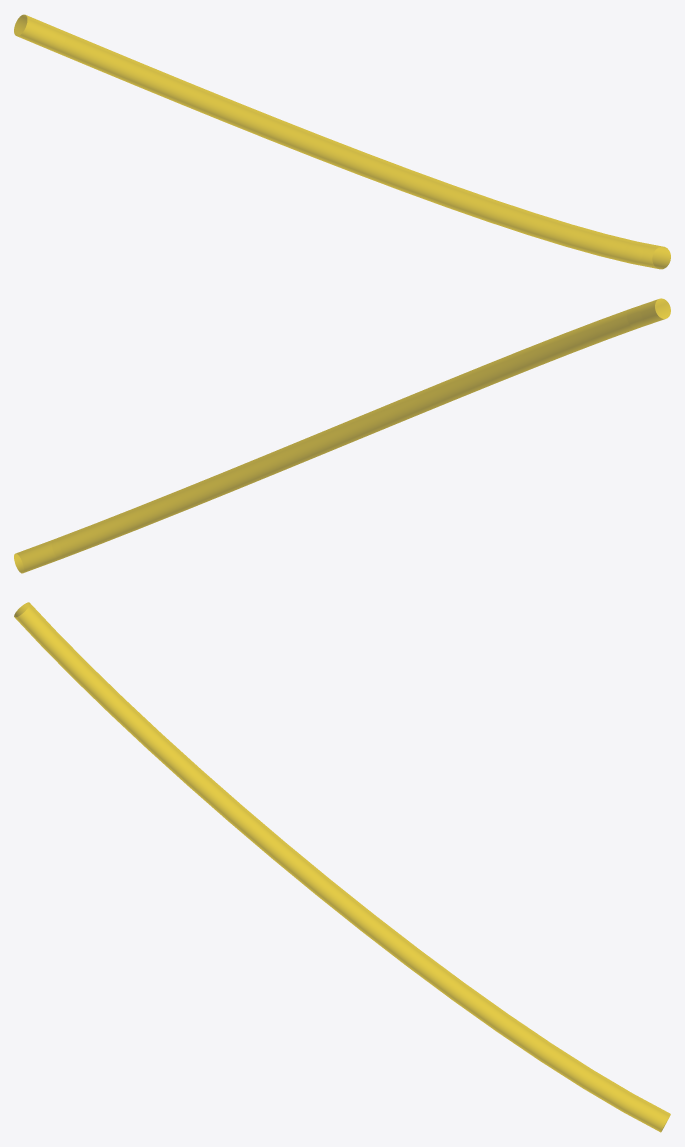
The model's file is Event_84804159_track_42.fbx.
3 renders of one model, top to bottom at view 1: azimuth 30°, elevation 25°; view 2: azimuth 150°, elevation 25°; view 3: azimuth 330°, elevation 25°, orthographic. The views are drawn at different scales.
Visible parts, largest first — view 1: Model; view 2: Model; view 3: Model.
Part boxes in pixels (box(x1,y1,x2,y2)): Model: box(14, 14, 670, 269); Model: box(14, 298, 670, 573); Model: box(14, 602, 670, 1132).
Bounding box in the file's own units: 1.36 × 0.8338 × 0.1815.
